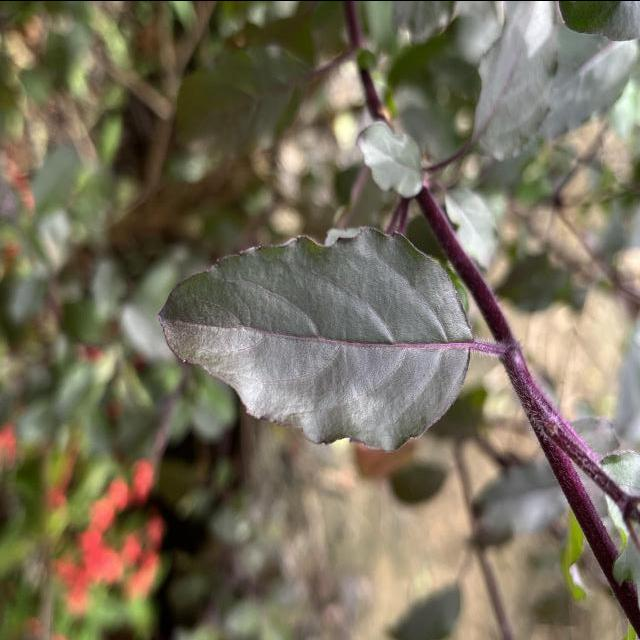Ocimum tenuiflorum: (158, 221, 472, 454)
